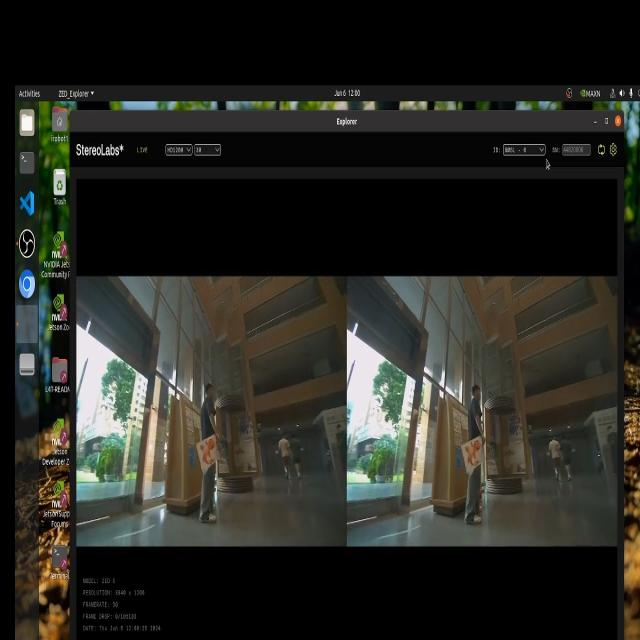red: (471, 436, 483, 466), (203, 438, 217, 462)
